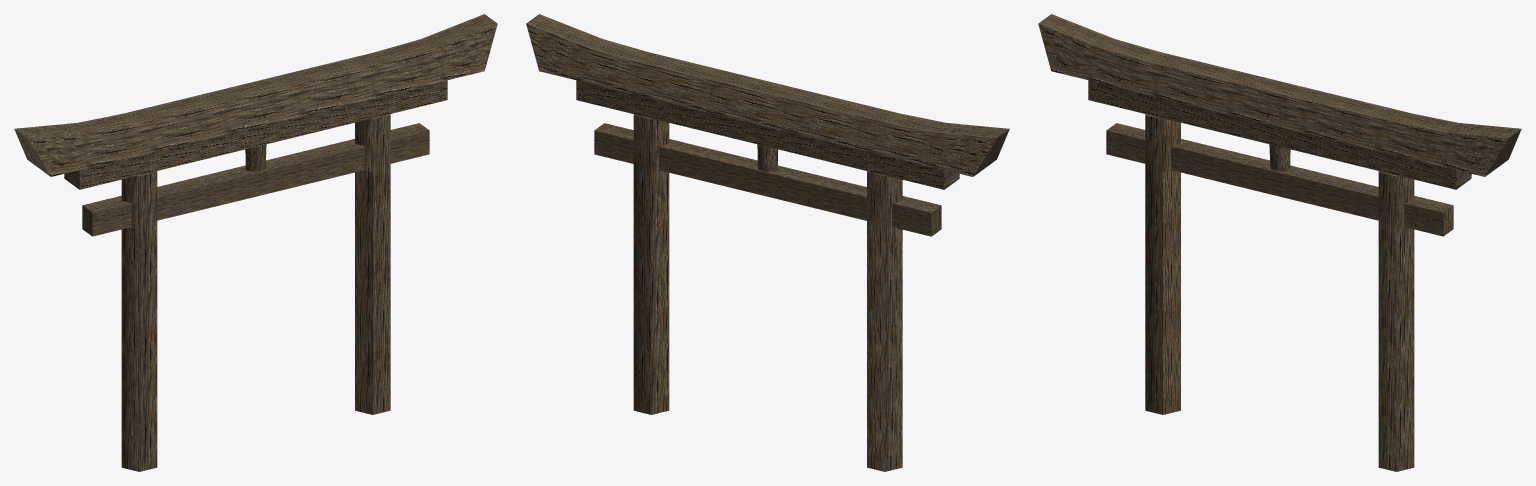
File: Torii.fbx
3 renders of one model, left to right at view 1: azimuth 30°, elevation 25°; view 2: azimuth 150°, elevation 25°; view 3: azimuth 330°, elevation 25°, orthographic.
Parts seen in each view (by area): view 1: pCube22; view 2: pCube22; view 3: pCube22.
Part boxes in pixels (box(x1,y1,x2,y2)): pCube22: box(14, 14, 497, 471); pCube22: box(526, 14, 1009, 471); pCube22: box(1038, 14, 1521, 471).
Size of the model in its own units: 11.84 by 8.63 by 1.04.
